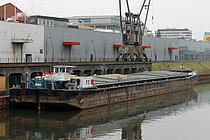Ship: (7, 60, 201, 114)
